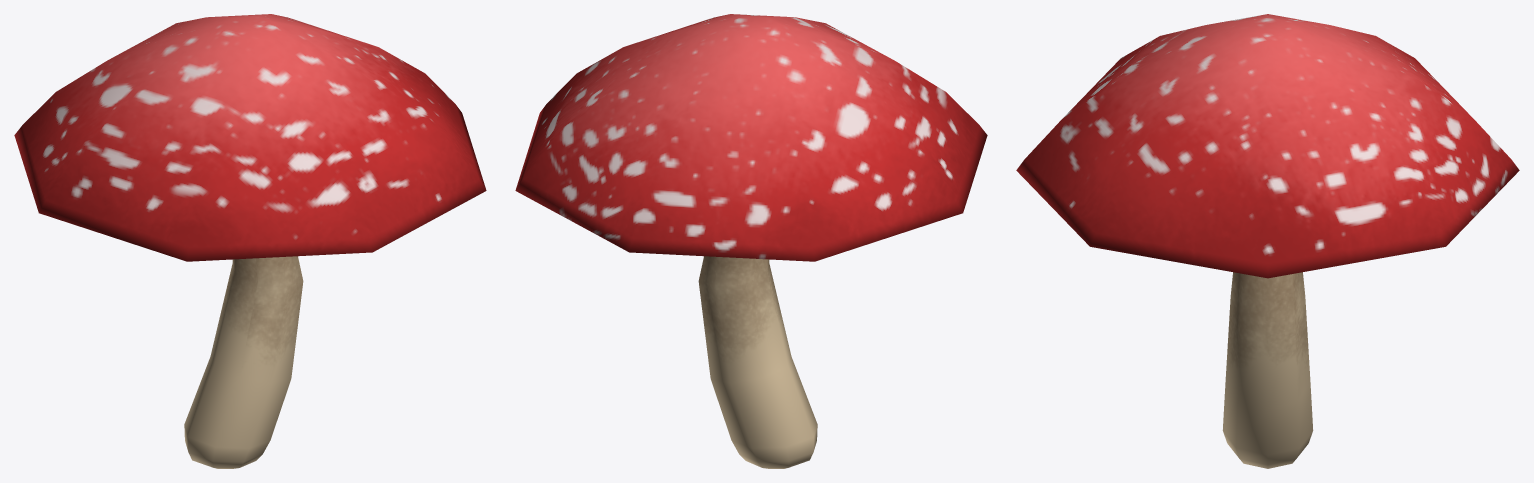
The model's file is Mushroom_large.fbx.
The picture shows the model from 3 angles, left to right: view 1: azimuth 30°, elevation 25°; view 2: azimuth 150°, elevation 25°; view 3: azimuth 270°, elevation 25°; orthographic projection. The views are drawn at different scales.
Visible parts, largest first — view 1: Mushroom_large; view 2: Mushroom_large; view 3: Mushroom_large.
Boxes of the visible parts, bbox=[...] form: Mushroom_large: bbox=[14, 14, 486, 468]; Mushroom_large: bbox=[515, 14, 987, 468]; Mushroom_large: bbox=[1016, 14, 1519, 468].
Size of the model in its own units: 20.26 by 19.75 by 20.26.
